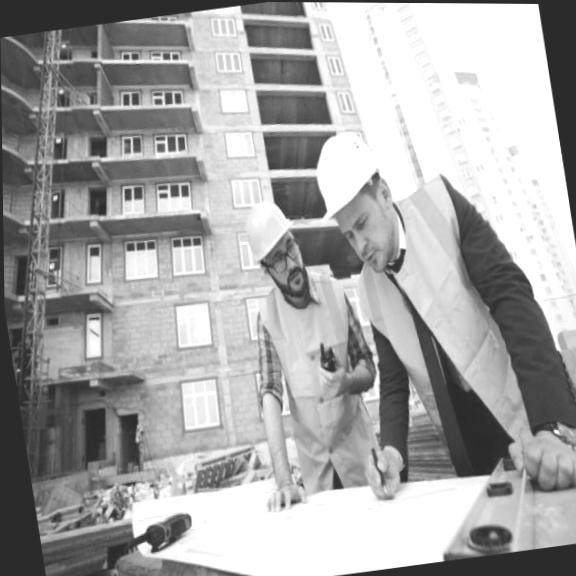safety_vest: (350, 196, 529, 465), (253, 278, 382, 472)
